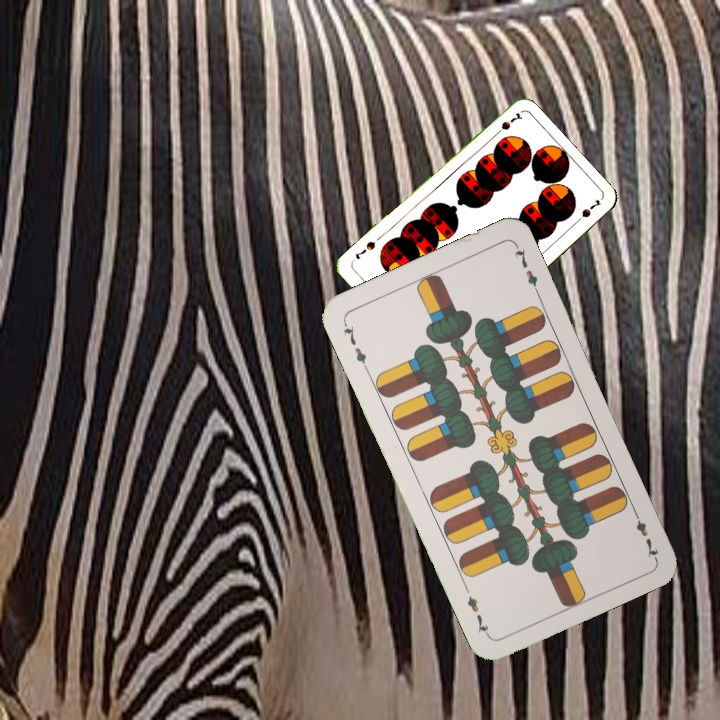E7: (629, 505, 661, 561), (339, 318, 371, 373)
S7: (489, 109, 524, 140)
